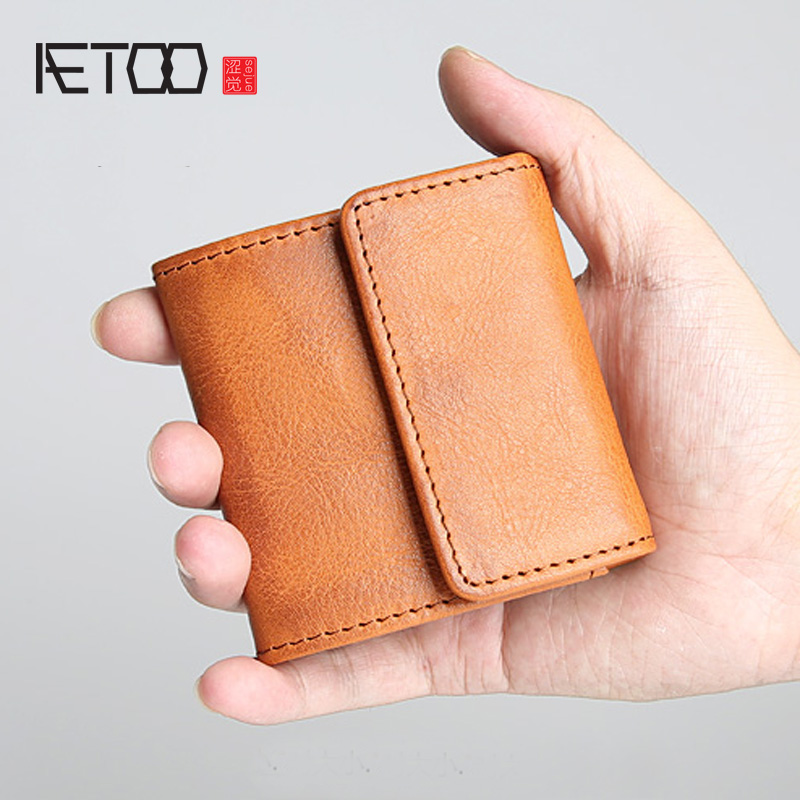monedero: (149, 151, 660, 666)
